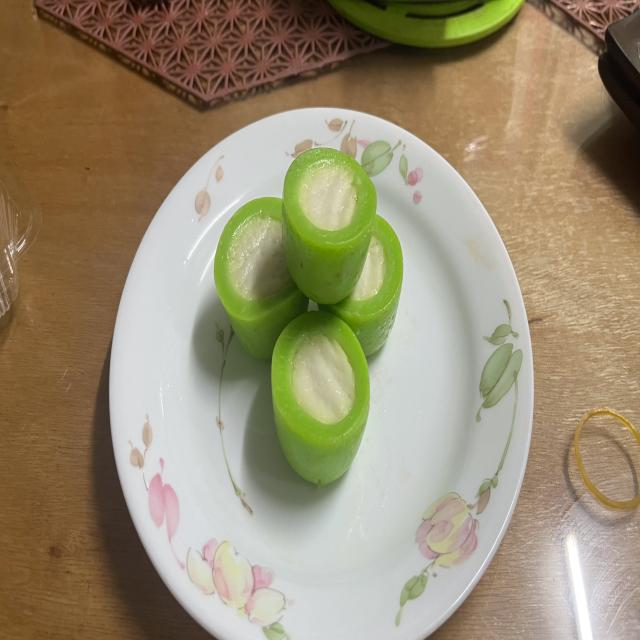nona-manis: (271, 311, 370, 484), (214, 198, 309, 360), (281, 149, 376, 304), (319, 216, 402, 356)
